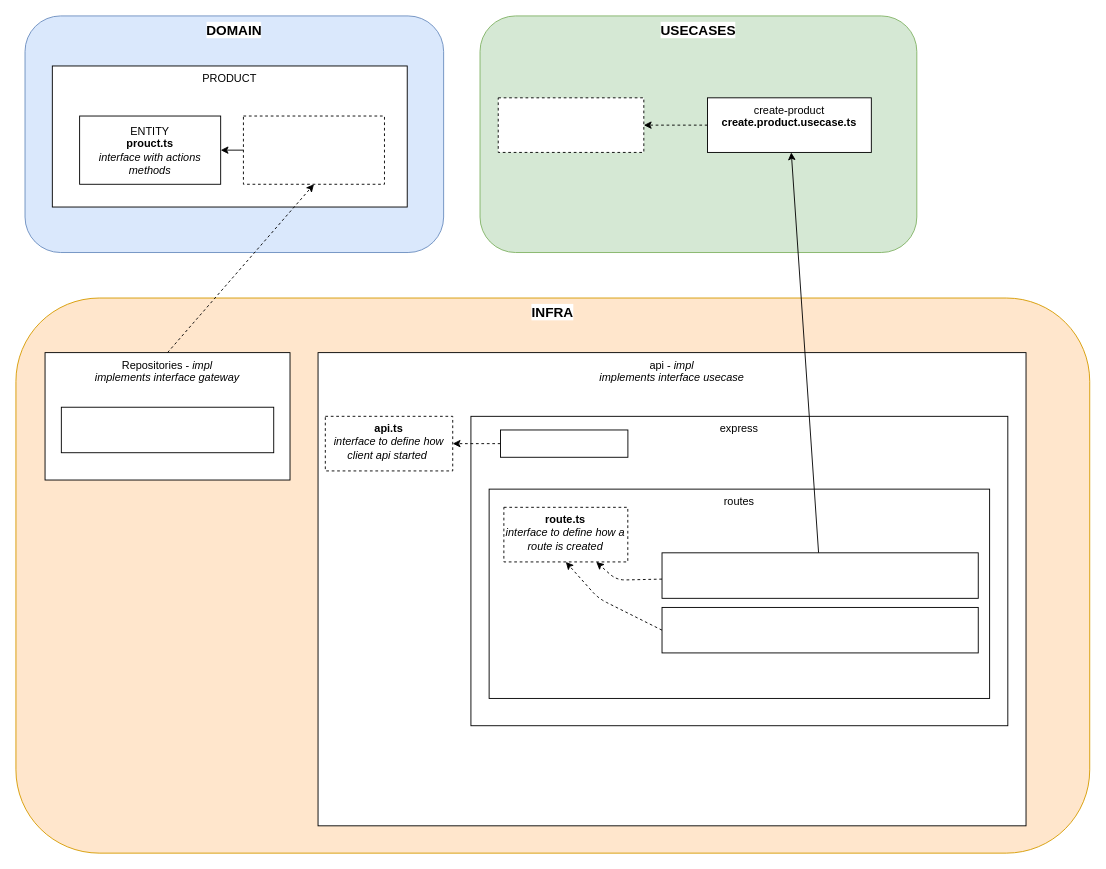
Some shapes in this 1106 by 869 pixel diagram are drawn without their labels. The centre of each missing label's shape, as x and y in pixels:
api.express.ts: [564,443]
GATEWAY product.gateway.ts interface with actions methods: [313,149]
product/create-product.express.route.ts: [819,575]
product/list-product.express.route.ts: [819,630]
product/product.repositoty.prisma.ts: [167,429]
usecase.ts USECASE<input, output> definition execute method: [570,124]
